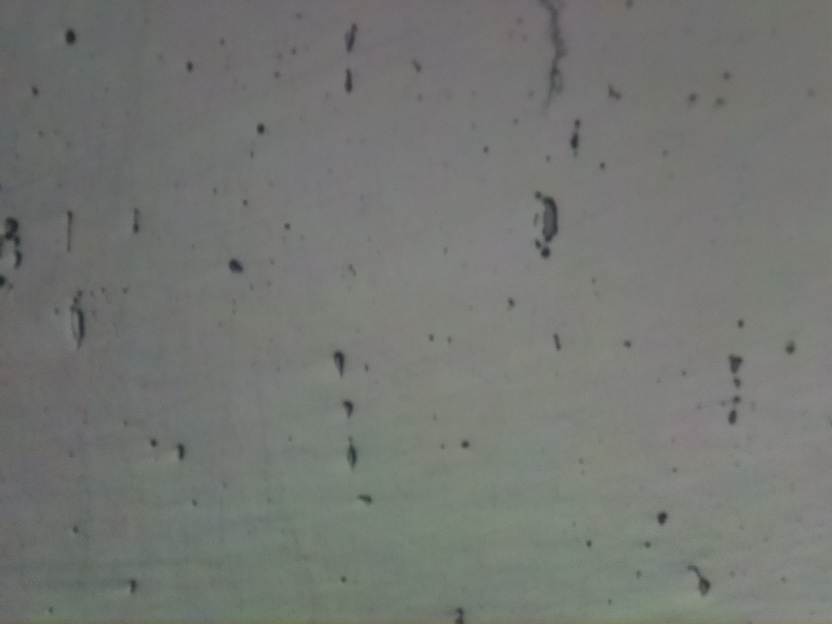crack: (544, 0, 565, 101)
